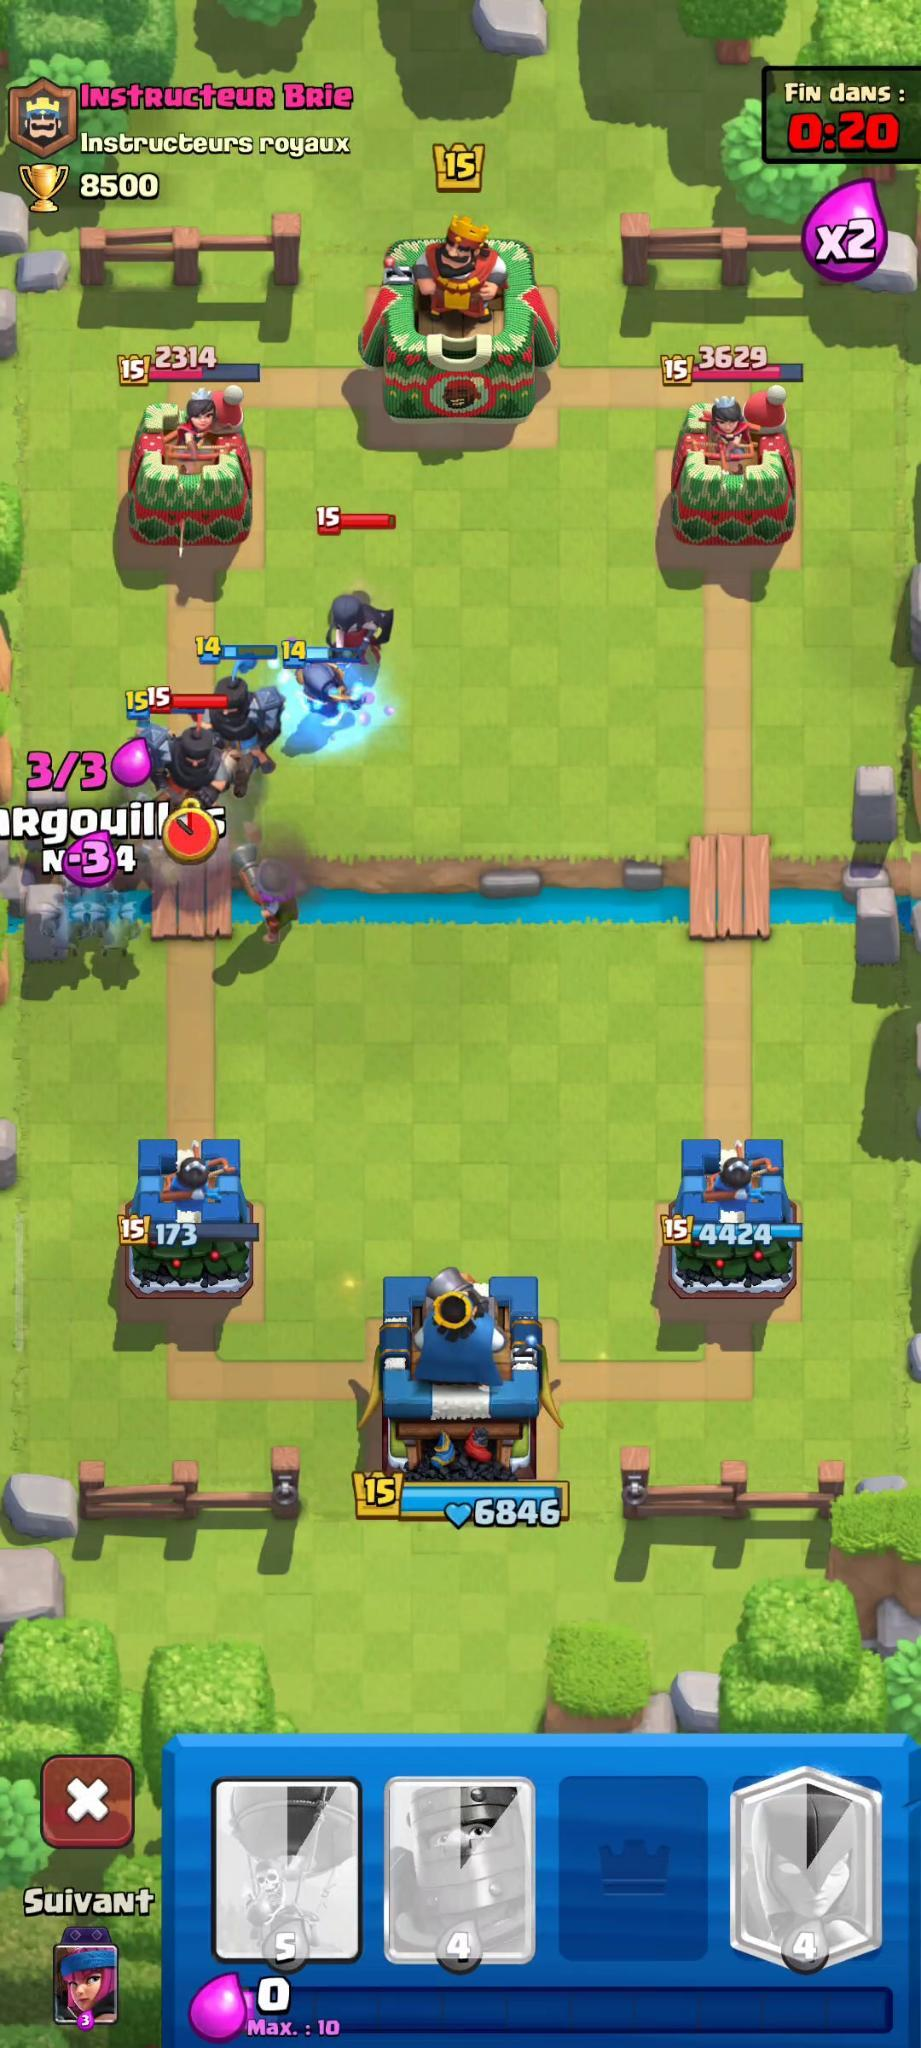enemy_dark_prince: (137, 685, 234, 806)
enemy_night_witch: (309, 544, 401, 658)
player_dark_prince: (190, 631, 285, 802)
player_mini_pekka: (280, 641, 370, 720)
player_musketeer: (235, 831, 314, 943)
